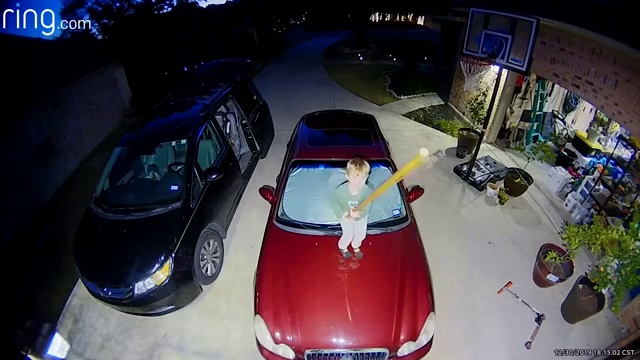face: (349, 167, 367, 189)
